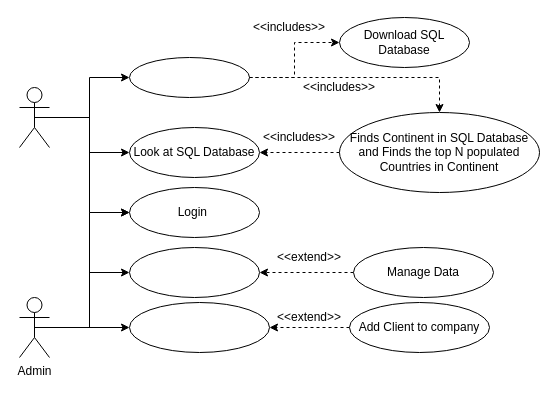
This 557x396 diagram has some shape labels left out. The centre of each missing label's shape, as x and y in pixels:
"Add User" goes at point (199, 327).
"Enter Continent And Input N" goes at point (189, 77).
"Upload to SQL Data" goes at point (194, 272).
"User" goes at point (34, 117).
